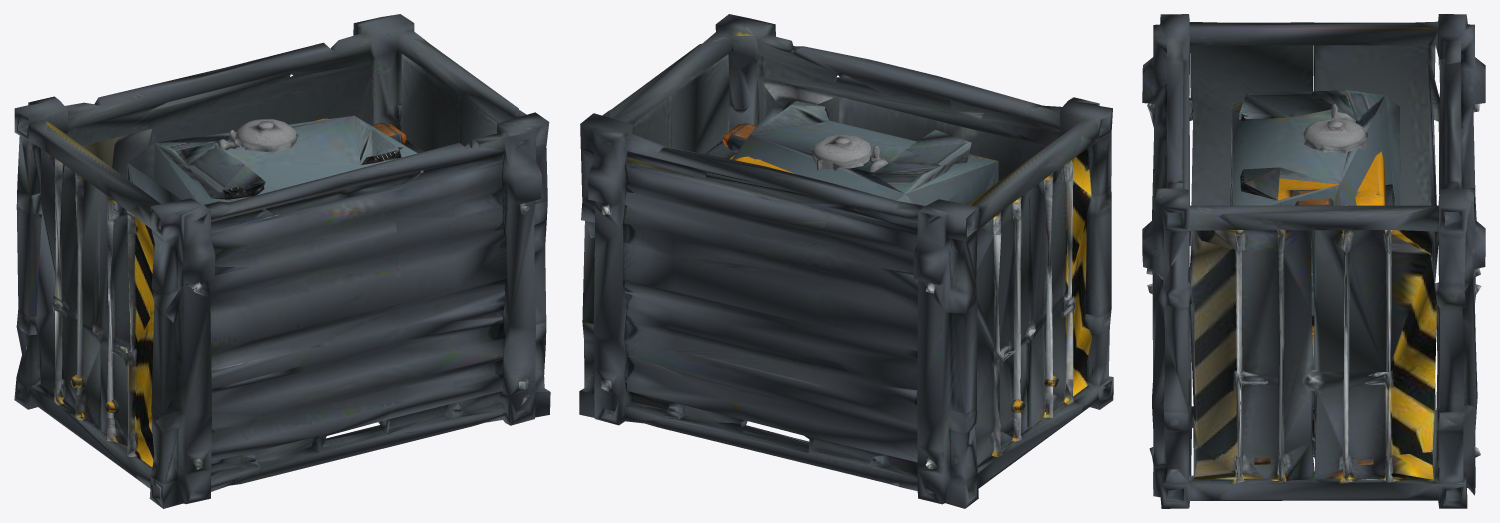
The model's file is station-props-interior.glb.
3 renders of one model, left to right at view 1: azimuth 30°, elevation 25°; view 2: azimuth 150°, elevation 25°; view 3: azimuth 270°, elevation 25°, orthographic. The views are drawn at different scales.
Parts seen in each view (by area): view 1: prop_container, prop_vending, prop_fuelpump, prop_loader; view 2: prop_container, prop_vending, prop_fuelpump, prop_loader; view 3: prop_container, prop_vending, prop_loader, prop_fuelpump.
Boxes of the visible parts, bbox=[...] form: prop_container: bbox=[14, 14, 550, 508]; prop_vending: bbox=[127, 115, 423, 204]; prop_fuelpump: bbox=[217, 119, 298, 152]; prop_loader: bbox=[70, 118, 423, 413]; prop_container: bbox=[579, 14, 1113, 508]; prop_vending: bbox=[732, 101, 998, 205]; prop_fuelpump: bbox=[810, 134, 888, 172]; prop_loader: bbox=[704, 123, 1059, 412]; prop_container: bbox=[1142, 14, 1485, 508]; prop_vending: bbox=[1230, 90, 1400, 457]; prop_loader: bbox=[1254, 151, 1394, 465]; prop_fuelpump: bbox=[1302, 104, 1367, 153].
Size of the model in its own units: 3.07 by 2.2 by 2.27.
9 materials, 9 textured.
